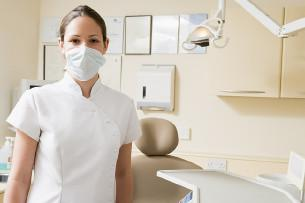OK: (61, 32, 110, 81)
